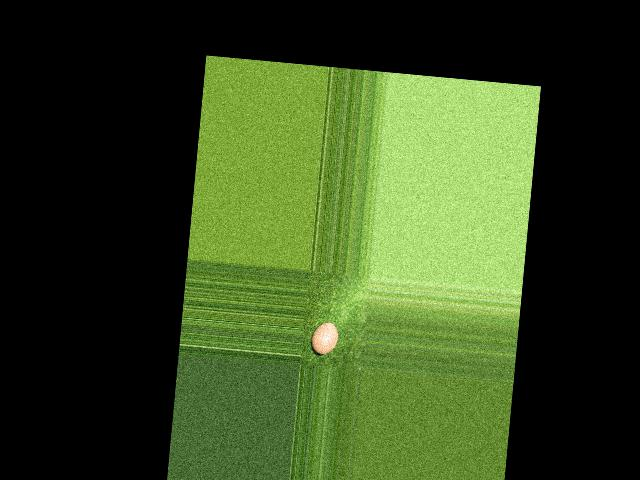egg: (309, 320, 338, 355)
